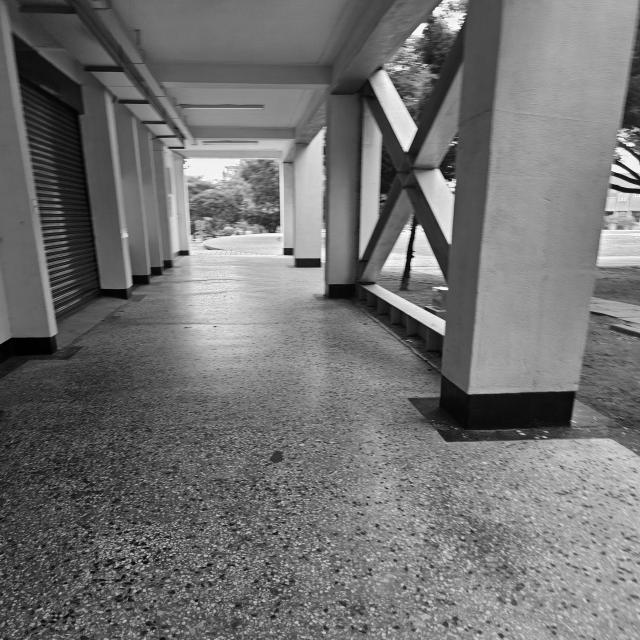Road-Object: (2, 255, 640, 640)
